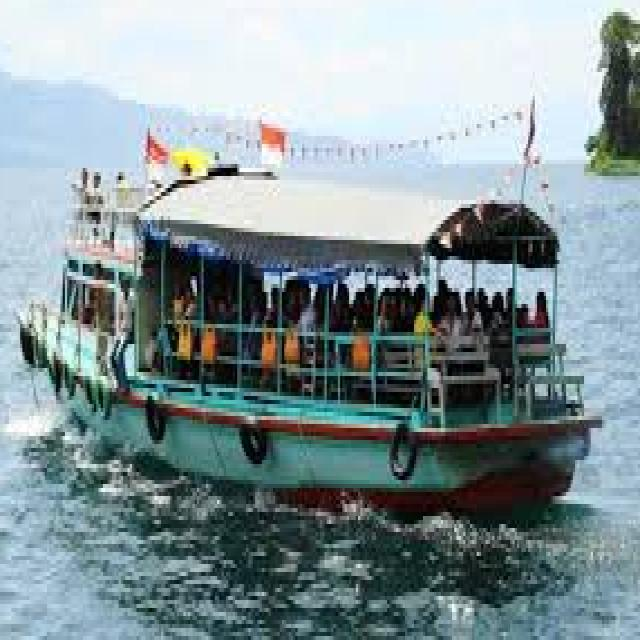passenger ship: (18, 90, 587, 500)
